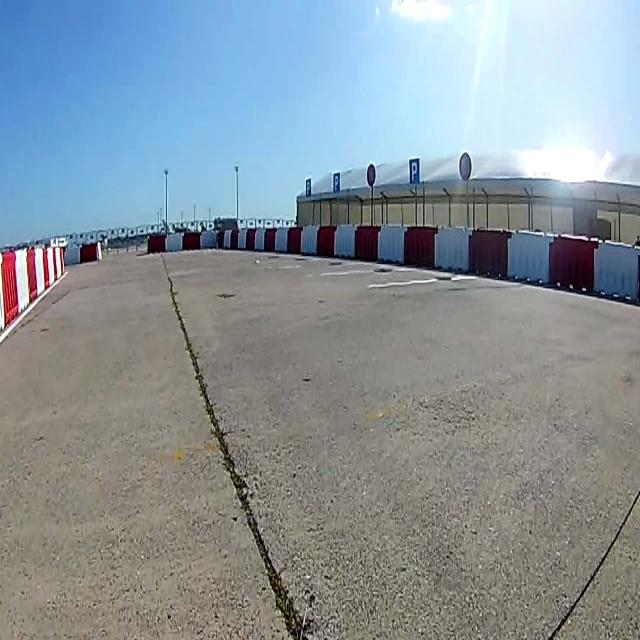park: (408, 158, 419, 184), (334, 172, 341, 192), (306, 178, 312, 196)
parkyasak: (458, 151, 472, 181), (366, 163, 375, 188)
